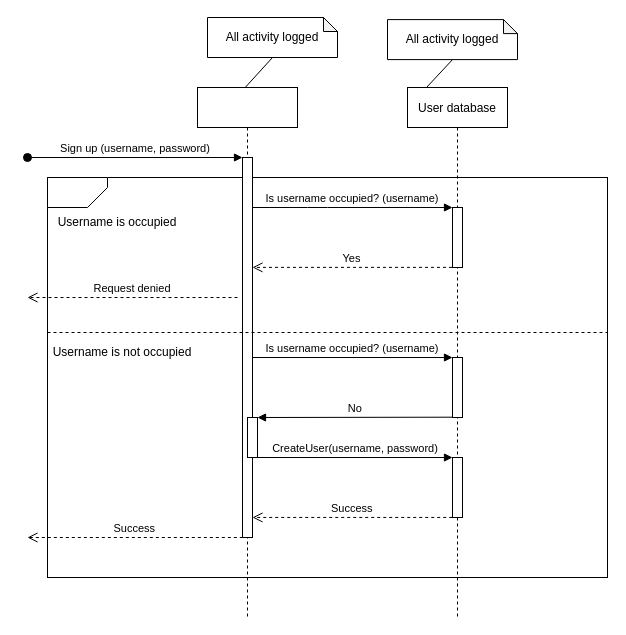
Image size: 626x635. Some labels were removed from this diagram. The shapes that lost their labels are listed below. From the top down, each one's box as (x1, y1, x2, y2) in pixels, then its label:
(46, 176, 108, 208): alt
(196, 86, 298, 618): User data manager
